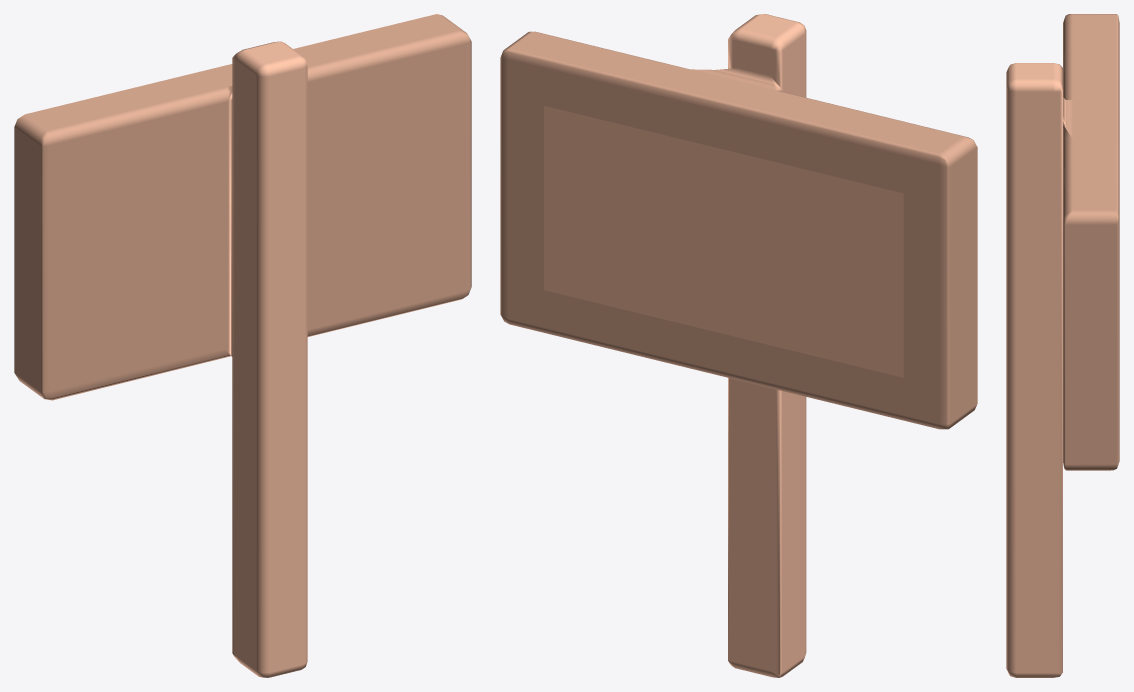
Rendered from sign.glb.
3 views of the same model, side by side, from view 1: azimuth 30°, elevation 25°; view 2: azimuth 150°, elevation 25°; view 3: azimuth 270°, elevation 25° (orthographic). The views are drawn at different scales.
Parts seen in each view (by area): view 1: sign; view 2: sign; view 3: sign.
Boxes of the visible parts, left/top/right/bottom form: sign: left=14, top=14, right=471, bottom=677; sign: left=500, top=14, right=977, bottom=677; sign: left=1006, top=14, right=1119, bottom=677.
Size of the model in its own units: 0.3 by 0.4088 by 0.07.
